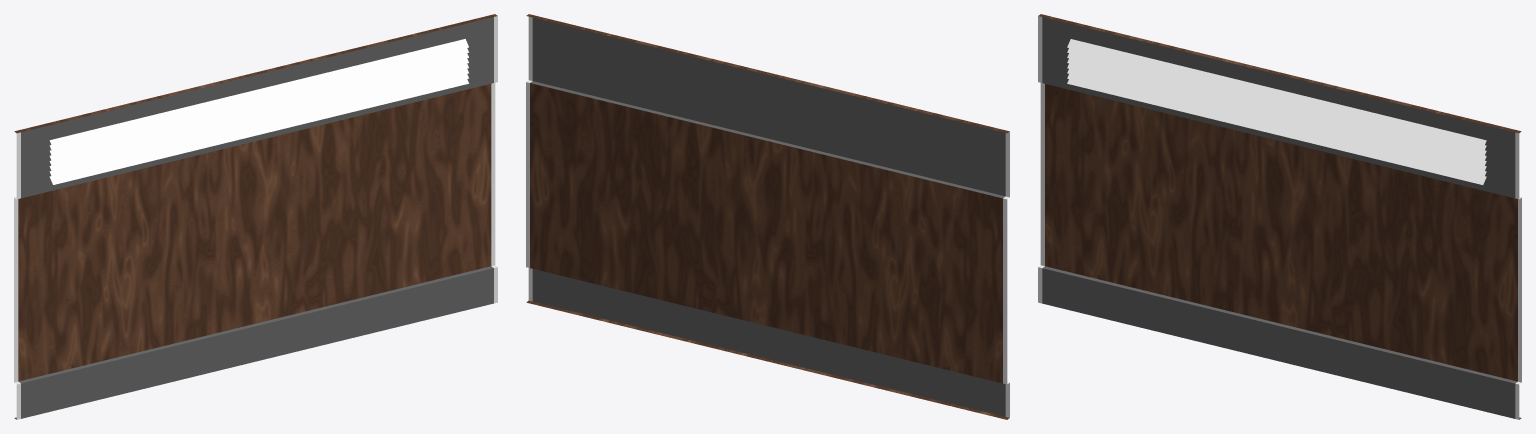
The model's file is wall.fbx.
3 views of the same model, side by side, from view 1: azimuth 30°, elevation 25°; view 2: azimuth 150°, elevation 25°; view 3: azimuth 330°, elevation 25° (orthographic).
Visible parts, largest first — view 1: Mur; view 2: Mur; view 3: Mur.
Part boxes in pixels (x1,y1,x2,y2): Mur: (14, 14, 497, 419); Mur: (526, 14, 1009, 419); Mur: (1038, 14, 1521, 419).
Size of the model in its own units: 482 by 274 by 11.11.
